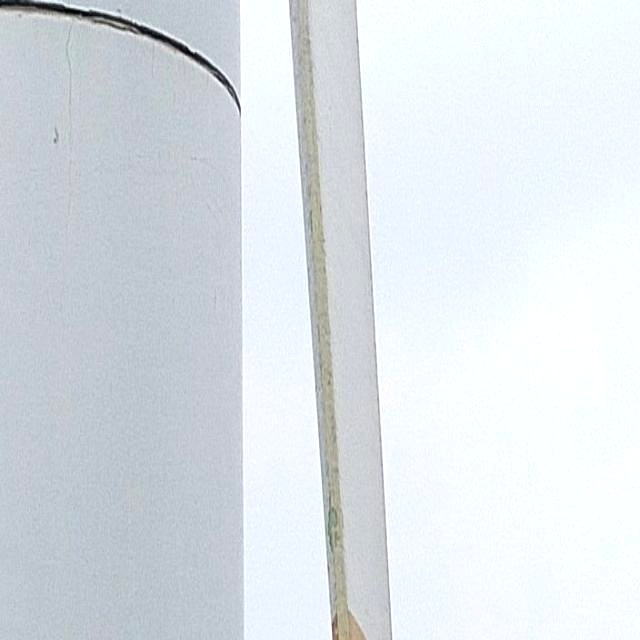EROSION: (317, 487, 349, 627)
